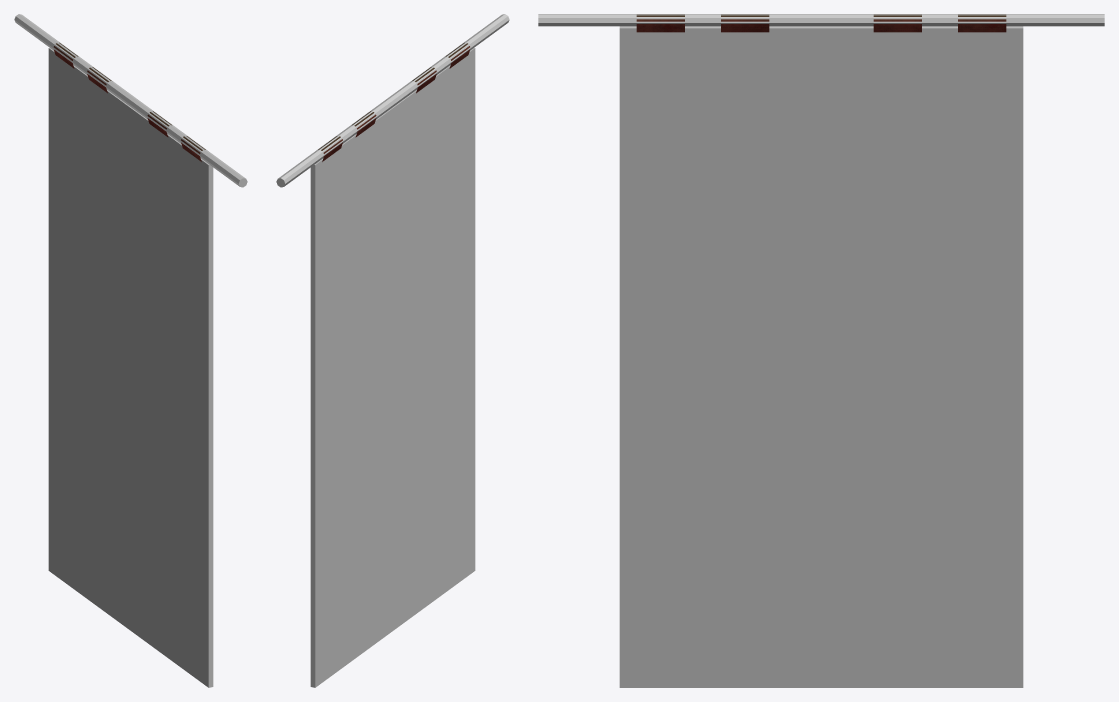
File: SM_Banner.fbx
3 renders of one model, left to right at view 1: azimuth 30°, elevation 25°; view 2: azimuth 150°, elevation 25°; view 3: azimuth 270°, elevation 25°, orthographic. The views are drawn at different scales.
Visible parts, largest first — view 1: SM_Banner_ConvexHulls, SM_Banner; view 2: SM_Banner_ConvexHulls, SM_Banner; view 3: SM_Banner_ConvexHulls, SM_Banner.
Boxes of the visible parts, x1=… form: SM_Banner_ConvexHulls: x1=14, y1=14, x2=247, y2=687; SM_Banner: x1=54, y1=42, x2=205, y2=161; SM_Banner_ConvexHulls: x1=276, y1=14, x2=509, y2=687; SM_Banner: x1=318, y1=42, x2=469, y2=161; SM_Banner_ConvexHulls: x1=538, y1=14, x2=1104, y2=687; SM_Banner: x1=636, y1=14, x2=1006, y2=32.
Size of the model in its own units: 3.24 by 141 by 185.
Materials: 2 (1 with a texture image).
